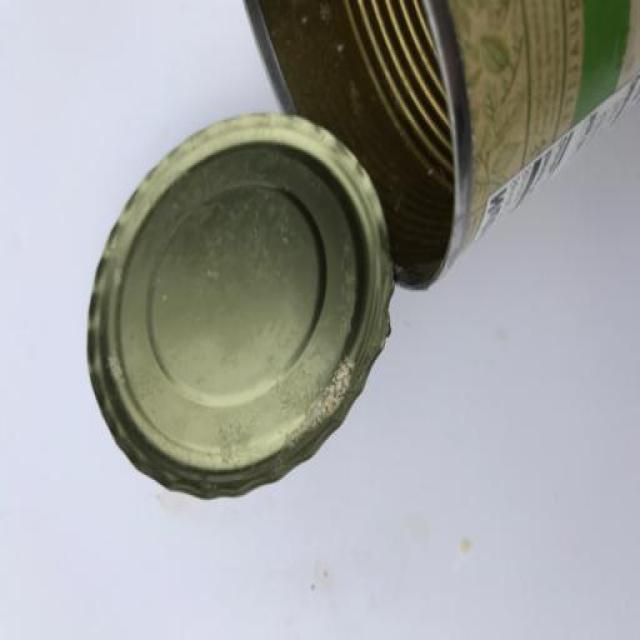Metal: (85, 108, 399, 498), (245, 0, 640, 290)
